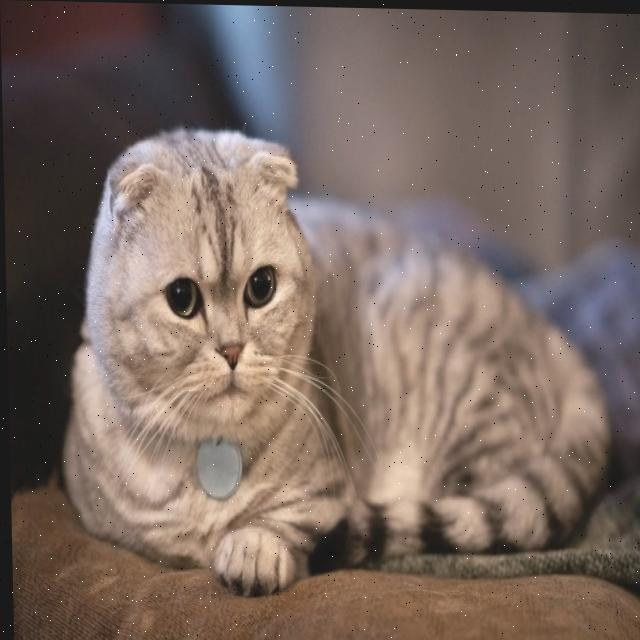Scottish Fold: (50, 115, 616, 602)
